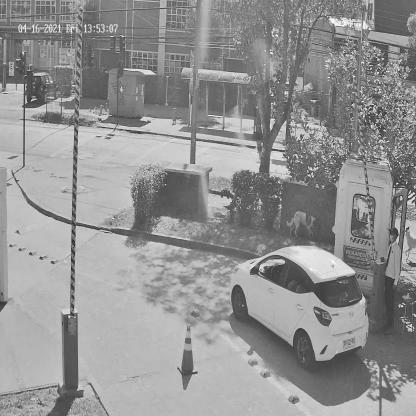Patente: (343, 334, 357, 351)
